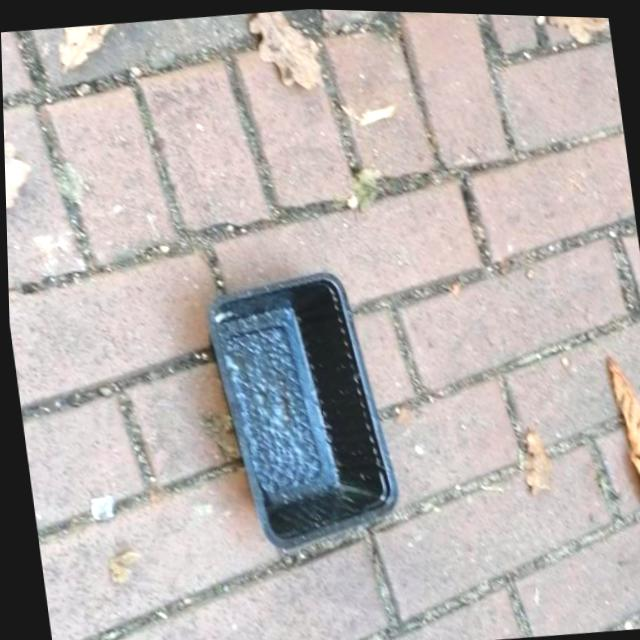Plastic: (195, 259, 404, 561)
